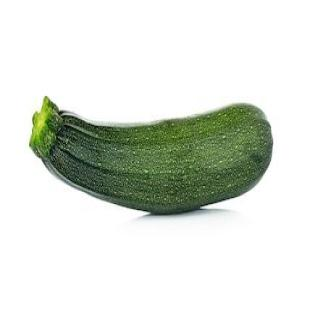Zucchini: (30, 98, 272, 213)
